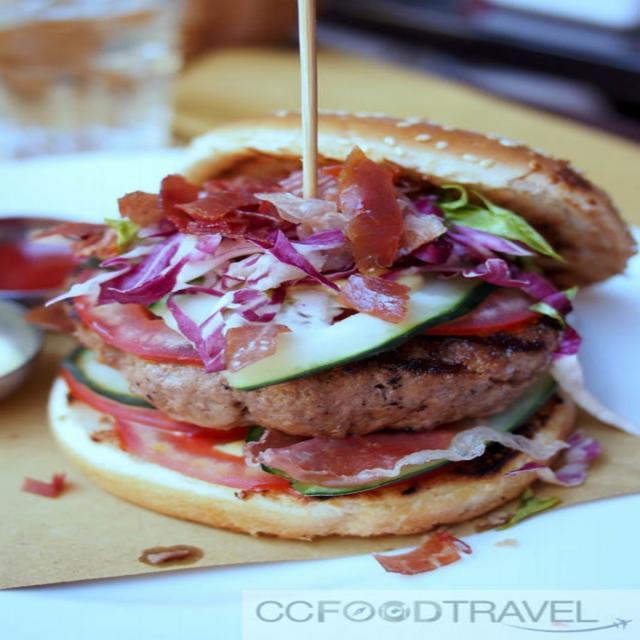Hamburger: (24, 112, 638, 543)
